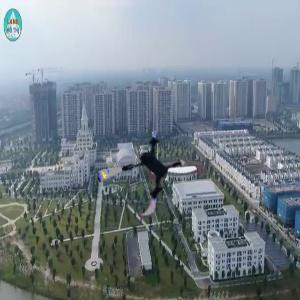drone: (99, 131, 187, 219)
